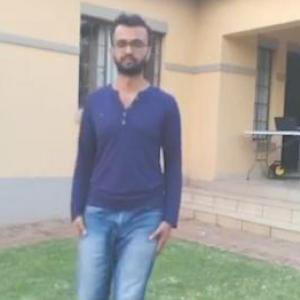follow: (74, 16, 186, 299)
